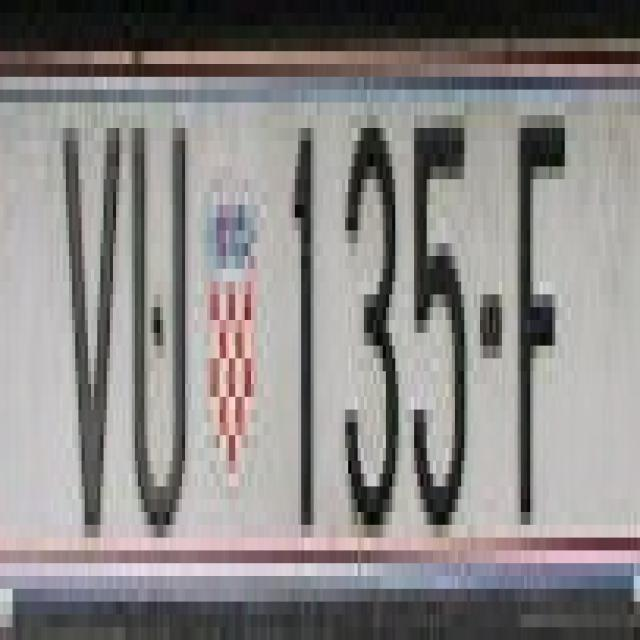1: (288, 102, 320, 550)
3: (338, 115, 398, 550)
5: (410, 90, 468, 550)
F: (511, 90, 571, 538)
U: (126, 90, 186, 538)
V: (57, 90, 116, 538)
